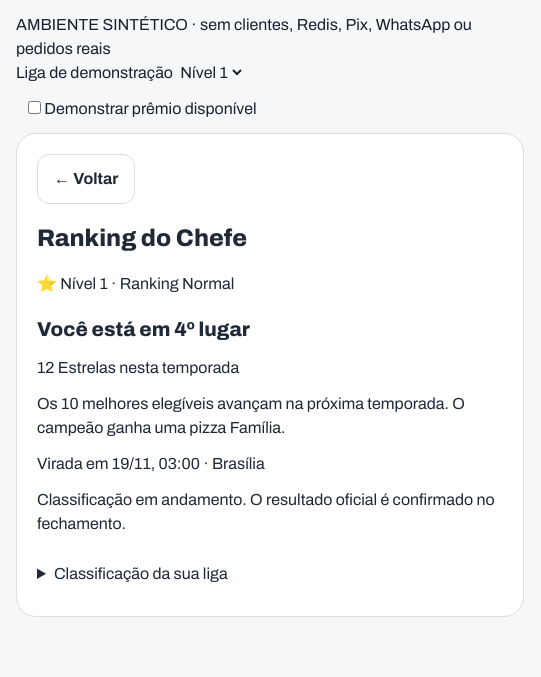
Ranking3 — experiência móvel e Preview sem efeitos › mostra liga, posição e próxima ação sem inventar prêmio
Expected: the text "⭐ Nível 1 · Ranking Normal" is shown, [37,275,234,292]
Expected: the heading "Você está em 4º lugar" is shown, [37,318,250,340]
Select "Nível 2" in the dropdown at (211, 72), box [176,63,245,82]
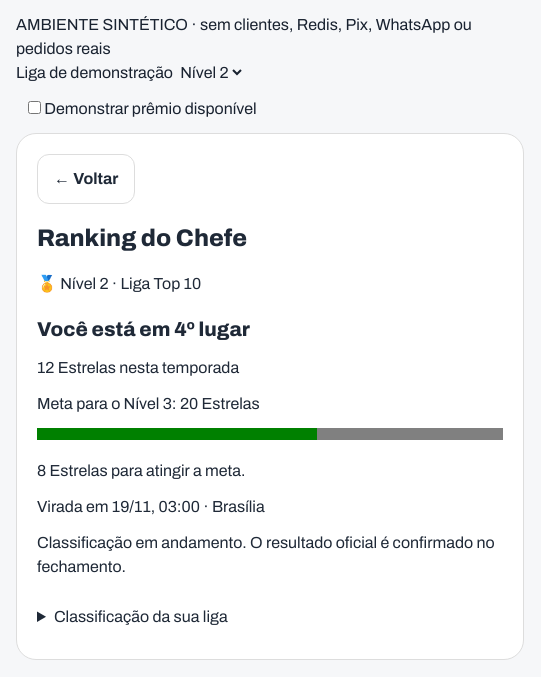
Now the text "Meta para o Nível 3: 20 Estrelas" is shown, box [37,395,260,412]
